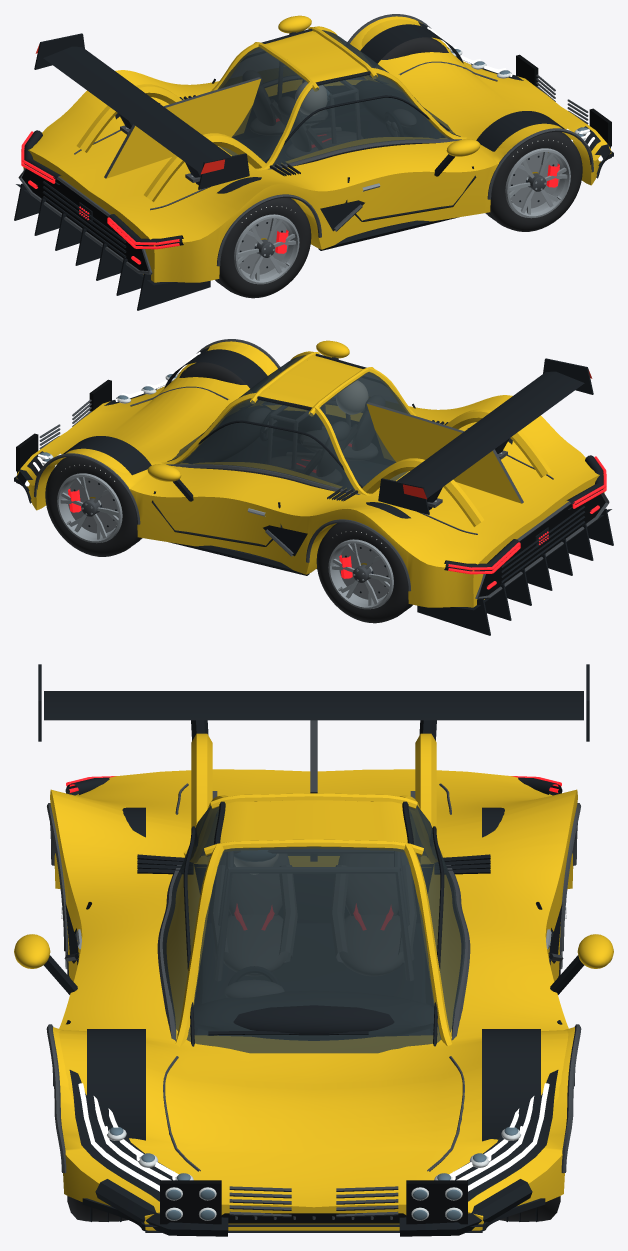
Rendered from fleet-2.glb.
3 views of the same model, one above another, from view 1: azimuth 30°, elevation 25°; view 2: azimuth 150°, elevation 25°; view 3: azimuth 270°, elevation 25° (orthographic). The views are drawn at different scales.
Parts seen in each view (by area): view 1: GT_body, GT_glazing, GT_tyre, GT_rear_wing, GT_diffuser_fin, GT_engine_spine, GT_wheelwell_liner, GT_roof, GT_dorsal_fairing, GT_alloy_disc, GT_rear_fascia, GT_alloy_bead (+29 smaller); view 2: GT_body, GT_glazing, GT_tyre, GT_rear_wing, GT_diffuser_fin, GT_engine_spine, GT_wheelwell_liner, GT_roof, GT_dorsal_fairing, GT_alloy_disc, GT_rear_fascia, GT_alloy_bead (+29 smaller); view 3: GT_body, GT_glazing, GT_rear_wing, GT_wheelwell_liner, GT_dashboard, GT_roof, GT_cockpit_floor, GT_bucket_base, GT_roof_pillar.001, GT_headlight_surround, GT_bucket_back, GT_headlight (+22 smaller).
Part boxes in pixels (x1,y1,x2,y2): GT_body: (23, 16, 611, 282); GT_glazing: (218, 30, 455, 167); GT_tyre: (216, 37, 582, 298); GT_rear_wing: (43, 46, 230, 173); GT_diffuser_fin: (14, 183, 210, 310); GT_engine_spine: (106, 79, 260, 178); GT_wheelwell_liner: (115, 24, 564, 193); GT_roof: (265, 31, 367, 82); GT_dorsal_fairing: (76, 84, 265, 201); GT_alloy_disc: (238, 152, 559, 274); GT_rear_fascia: (21, 168, 148, 271); GT_alloy_bead: (234, 148, 570, 284); GT_body: (16, 341, 604, 607); GT_glazing: (172, 355, 410, 492); GT_tyre: (45, 362, 411, 623); GT_rear_wing: (397, 371, 584, 498); GT_diffuser_fin: (417, 508, 613, 635); GT_engine_spine: (367, 404, 521, 503); GT_wheelwell_liner: (63, 349, 512, 518); GT_roof: (260, 356, 362, 407); GT_dorsal_fairing: (362, 409, 551, 526); GT_alloy_disc: (68, 477, 389, 599); GT_rear_fascia: (479, 494, 605, 596); GT_alloy_bead: (57, 473, 393, 609); GT_body: (50, 769, 577, 1230); GT_glazing: (162, 805, 465, 1053); GT_rear_wing: (44, 691, 583, 720); GT_wheelwell_liner: (87, 807, 540, 1141); GT_dashboard: (194, 991, 433, 1040); GT_roof: (220, 800, 407, 843); GT_cockpit_floor: (197, 923, 430, 1035); GT_bucket_base: (224, 914, 403, 975); GT_roof_pillar.001: (175, 795, 451, 1047); GT_headlight_surround: (69, 1070, 558, 1201); GT_bucket_back: (219, 852, 408, 915); GT_headlight: (95, 1179, 532, 1236).
Bounding box in the file's own units: 0.339 × 0.1081 × 0.2142.
